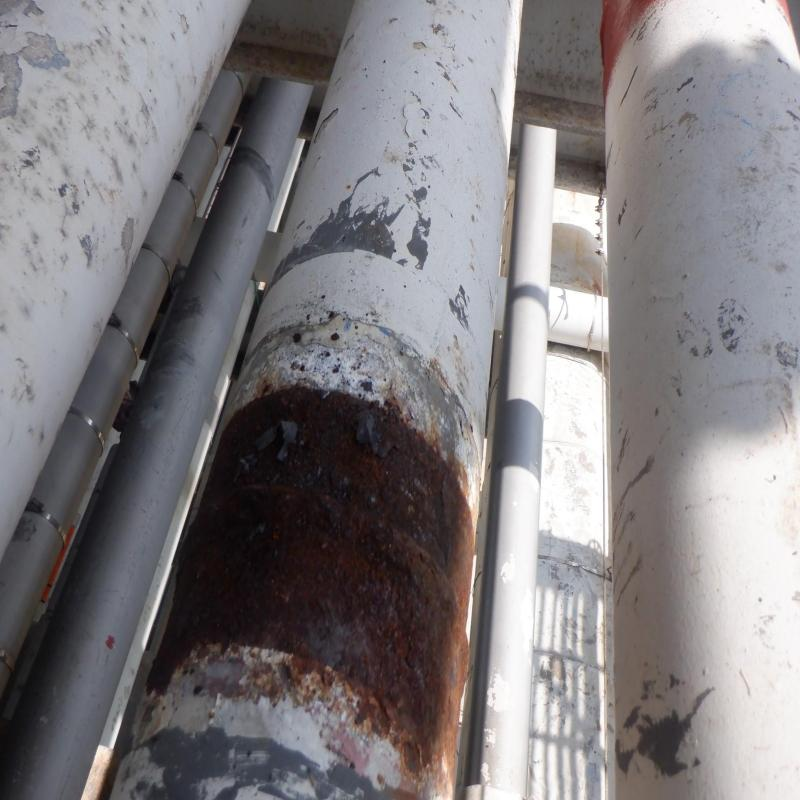corrosion: (222, 426, 432, 664)
